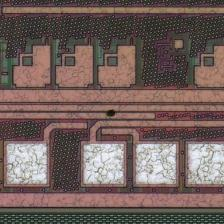PARTICLE: (106, 107, 118, 119)
